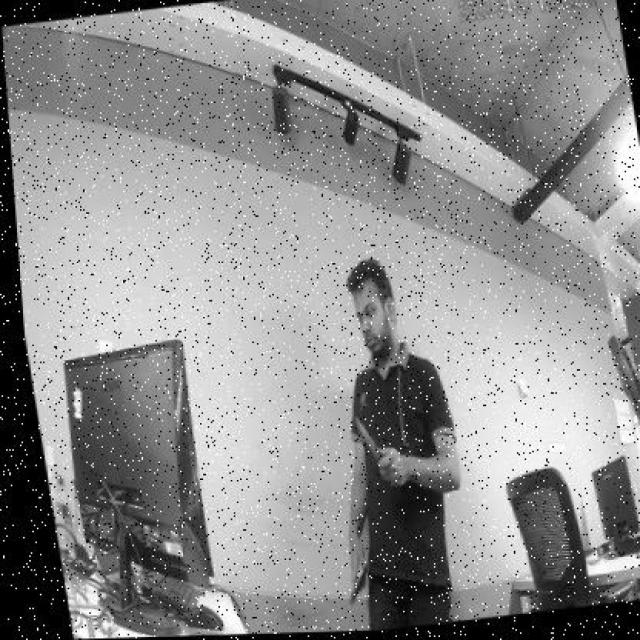weapon: (345, 560, 370, 606)
